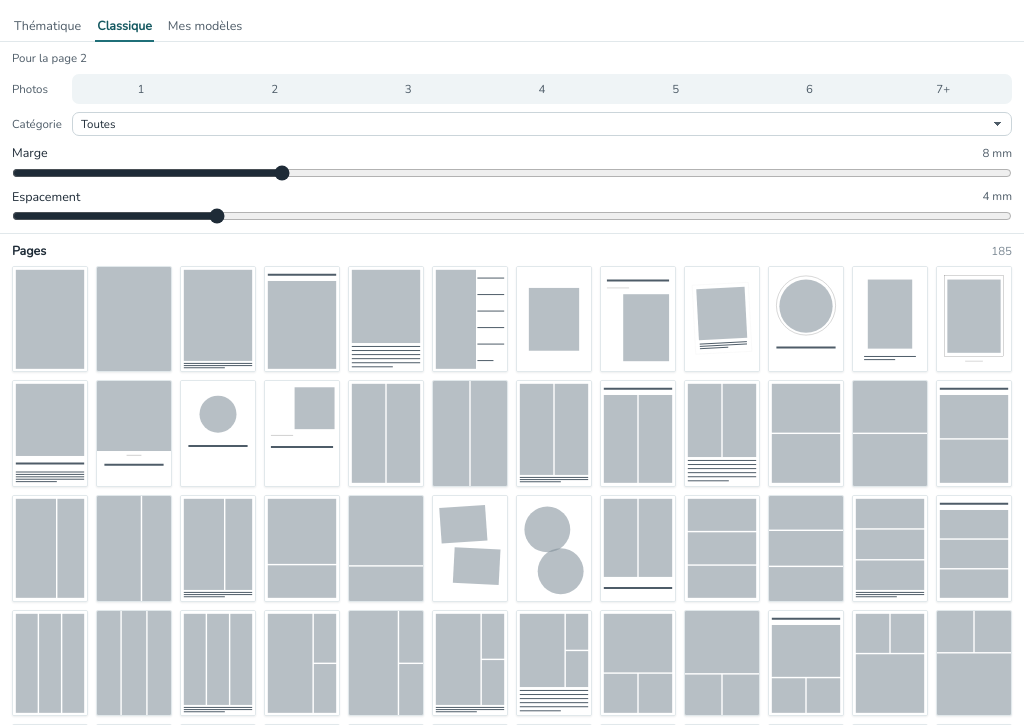
Test: TemplatesPanel › saves the page as a model, lists it in Mes modèles, renames it and deletes it in two steps
Expected: the element showing "Thématique Classique Mes modèles" is shown, 0,12 -> 1023,42
Click the tab "Mes modèles" at (205, 27), box 166,12 -> 244,42
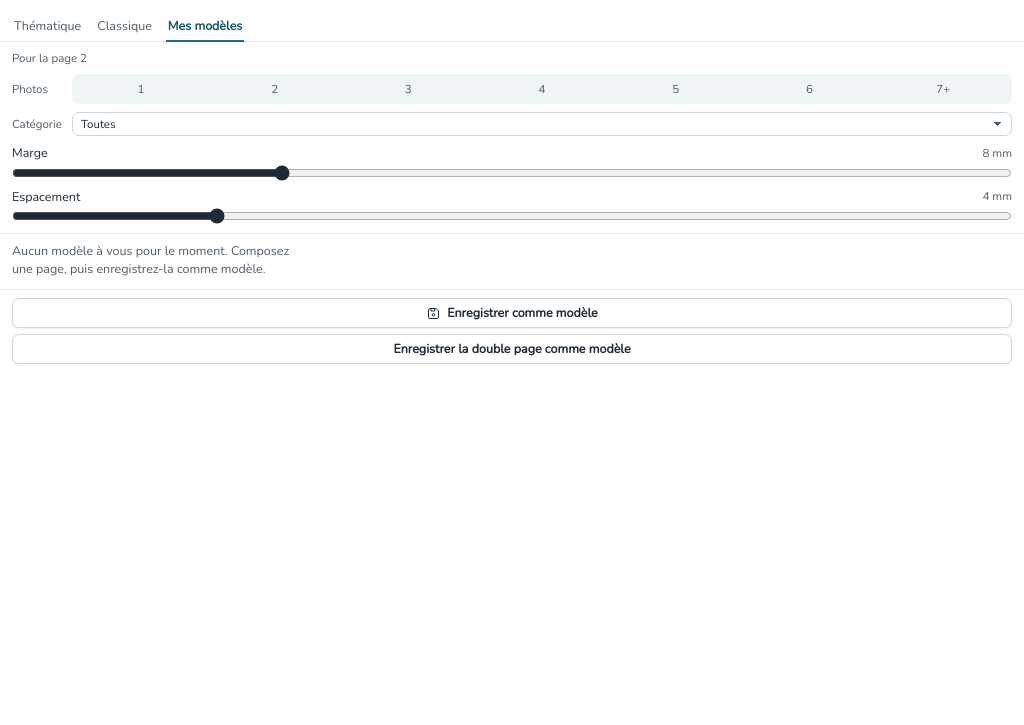
Now the text "Aucun modèle à vous pour le moment. Composez une page, puis enregistrez-la comme modèle." is shown, box 12,242 -> 289,277
Click the button "Enregistrer comme modèle" at (512, 313), box 12,298 -> 1012,328
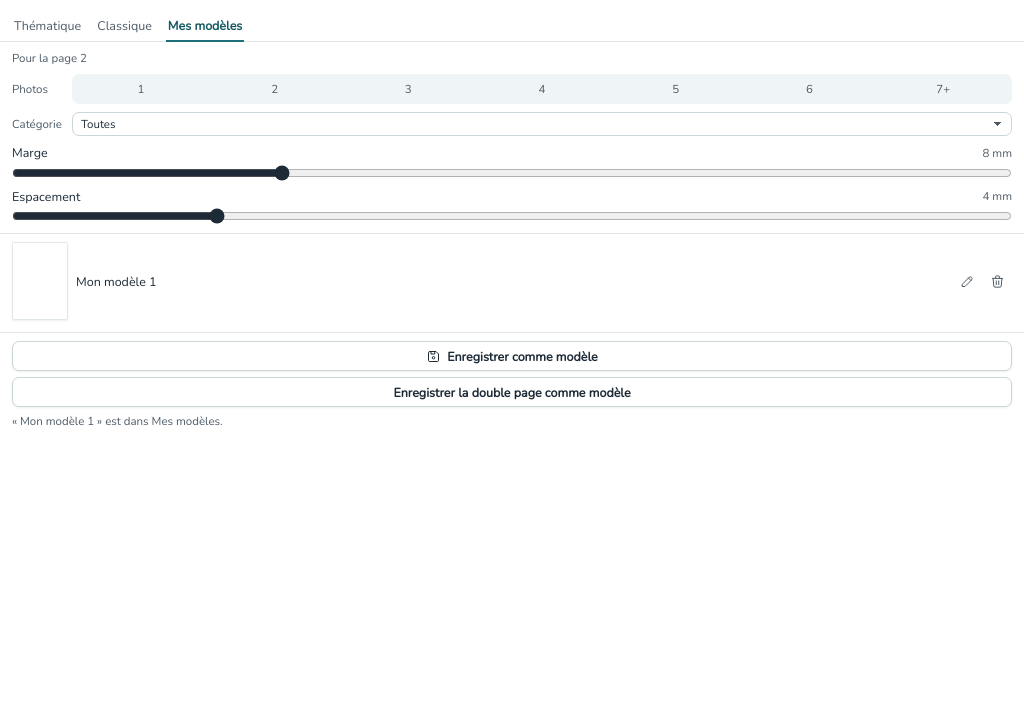
Now the tab "Mes modèles" is selected, box 166,12 -> 244,42
Click the button named "Renommer Mon modèle 1" at (967, 281), box 952,266 -> 982,296
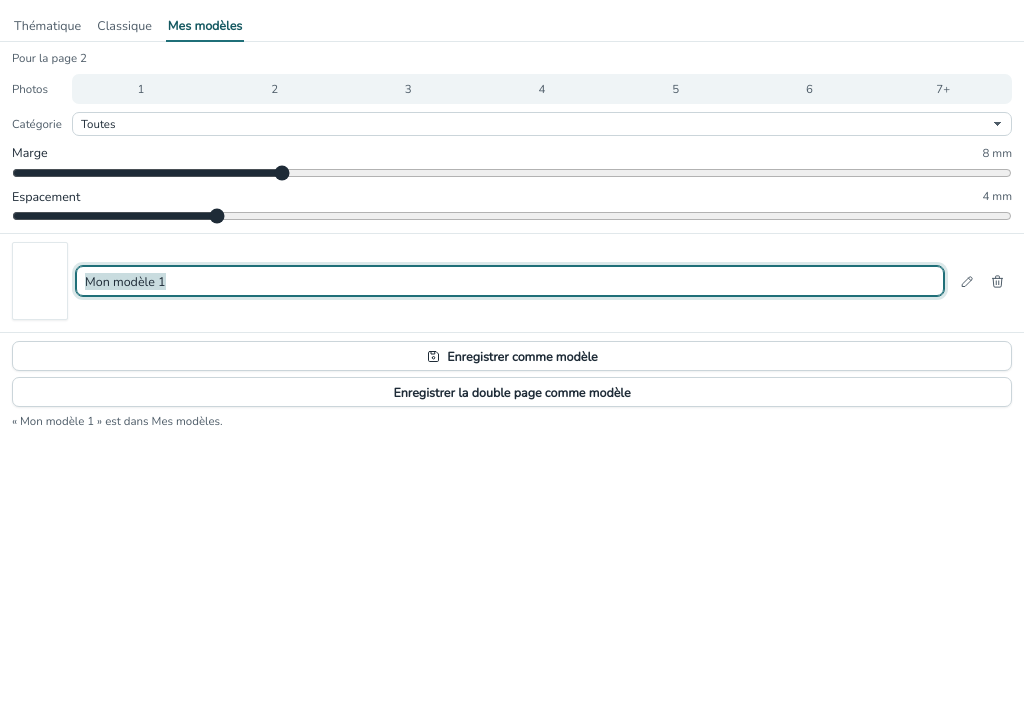
Replace the text in the field named "Nom du modèle" with "Ma page" at (510, 281), box 76,266 -> 944,296
Press Enter in the field named "Nom du modèle", box 76,266 -> 944,296
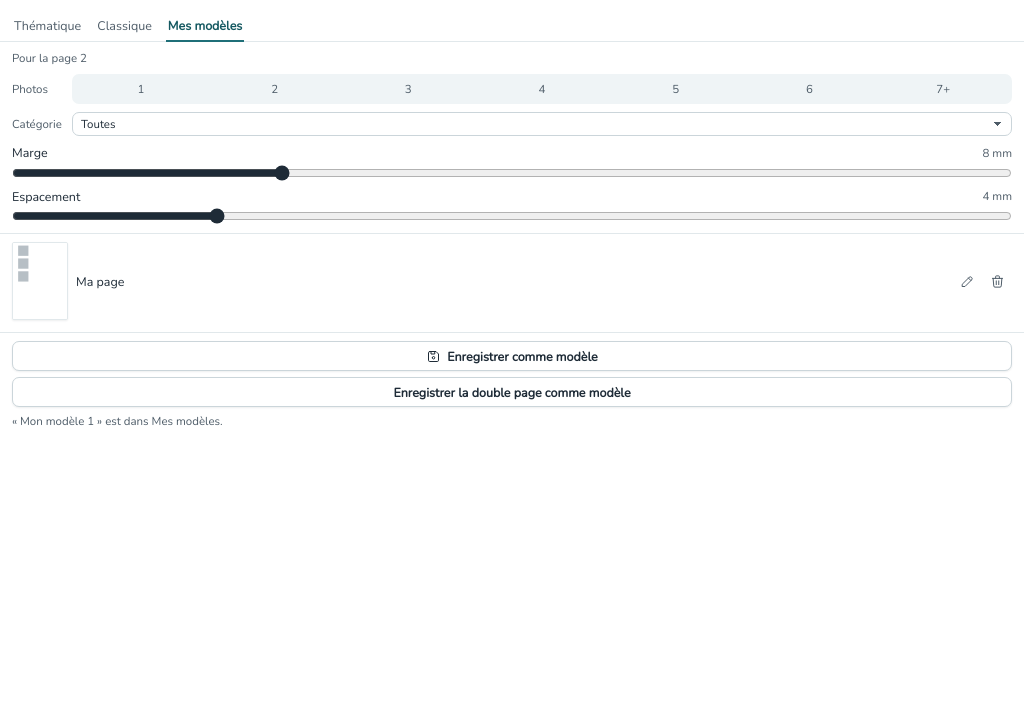
Now the text "Ma page" is shown, box 76,272 -> 124,290
Click the button named "Supprimer Ma page" at (997, 281), box 982,266 -> 1012,296
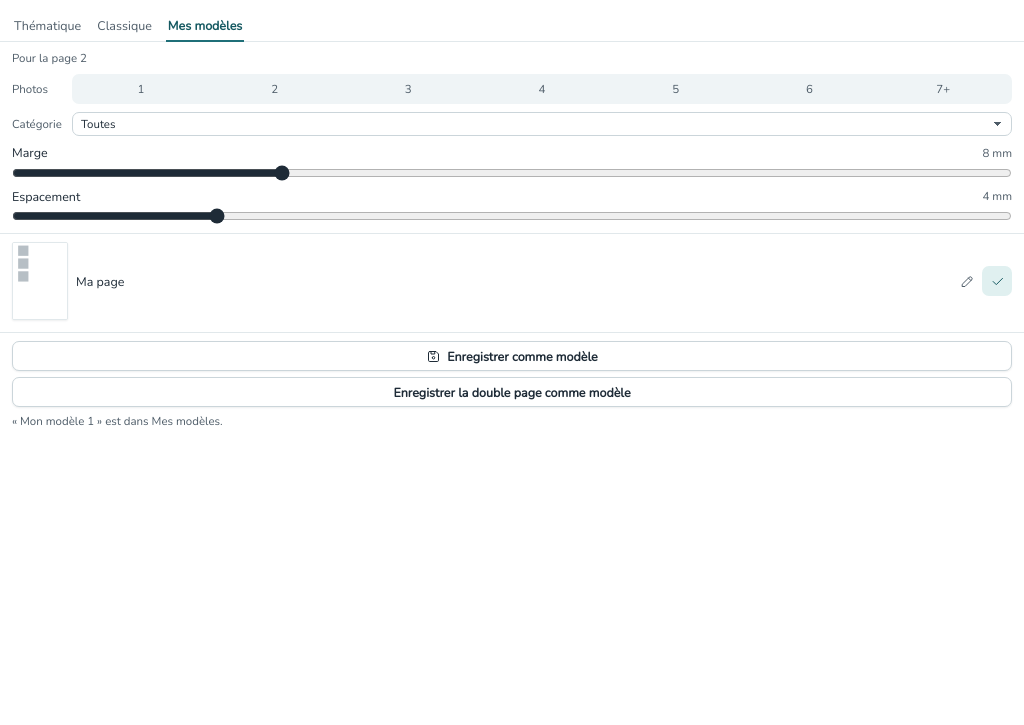
Click the button named "Confirmer la suppression de Ma page" at (997, 281), box 982,266 -> 1012,296
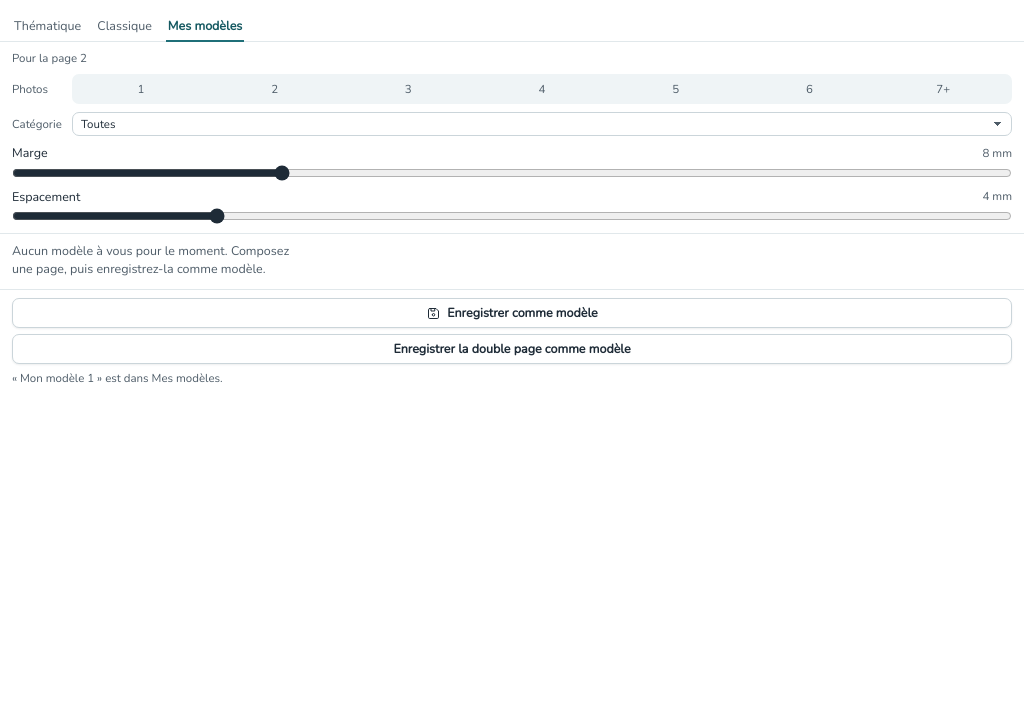
Now the text "Aucun modèle à vous pour le moment. Composez une page, puis enregistrez-la comme modèle." is shown, box 12,242 -> 289,277
